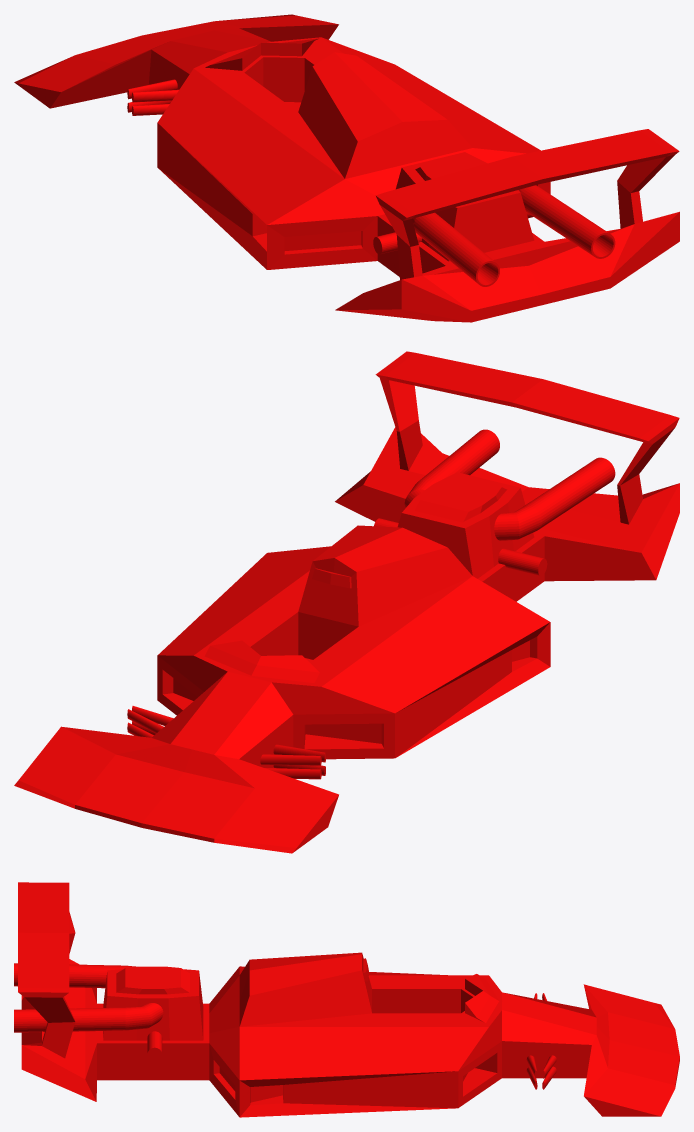
The model's file is body.glb.
3 views of the same model, one above another, from view 1: azimuth 30°, elevation 25°; view 2: azimuth 150°, elevation 25°; view 3: azimuth 270°, elevation 25° (orthographic). The views are drawn at different scales.
Visible parts, largest first — view 1: Body; view 2: Body; view 3: Body.
Part boxes in pixels (box(x1,y1,x2,y2)): Body: box(14, 14, 679, 322); Body: box(14, 351, 679, 853); Body: box(14, 882, 679, 1117).
Bounding box in the file's own units: 3 × 1.38 × 6.53.
